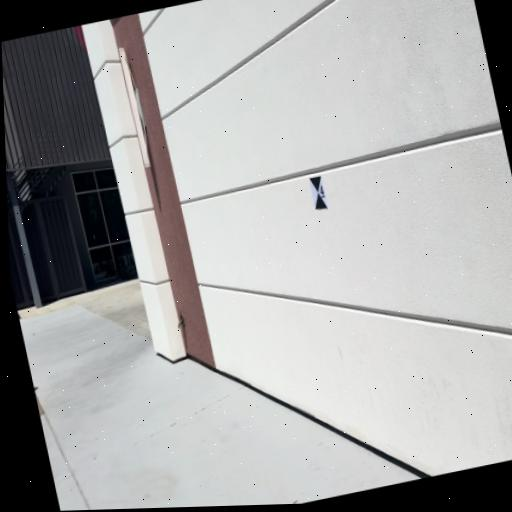target4: (309, 175, 328, 209)
